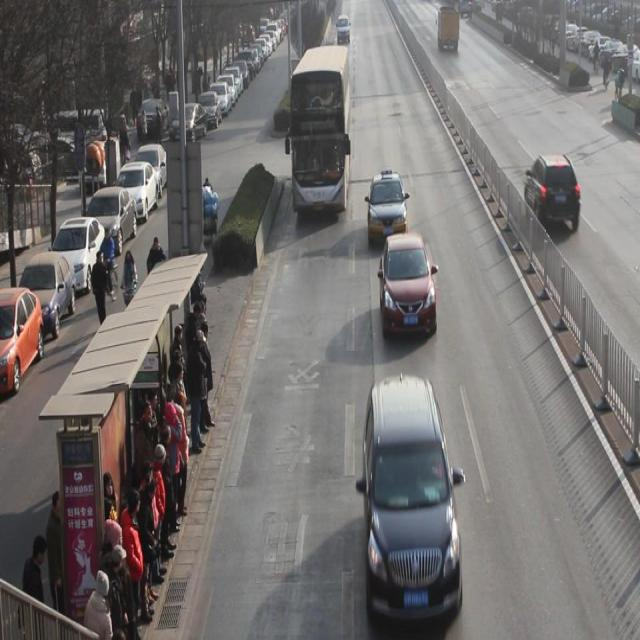car: (362, 379, 462, 618), (380, 235, 438, 341), (524, 156, 580, 236), (368, 176, 408, 248)
van: (289, 49, 349, 214)
